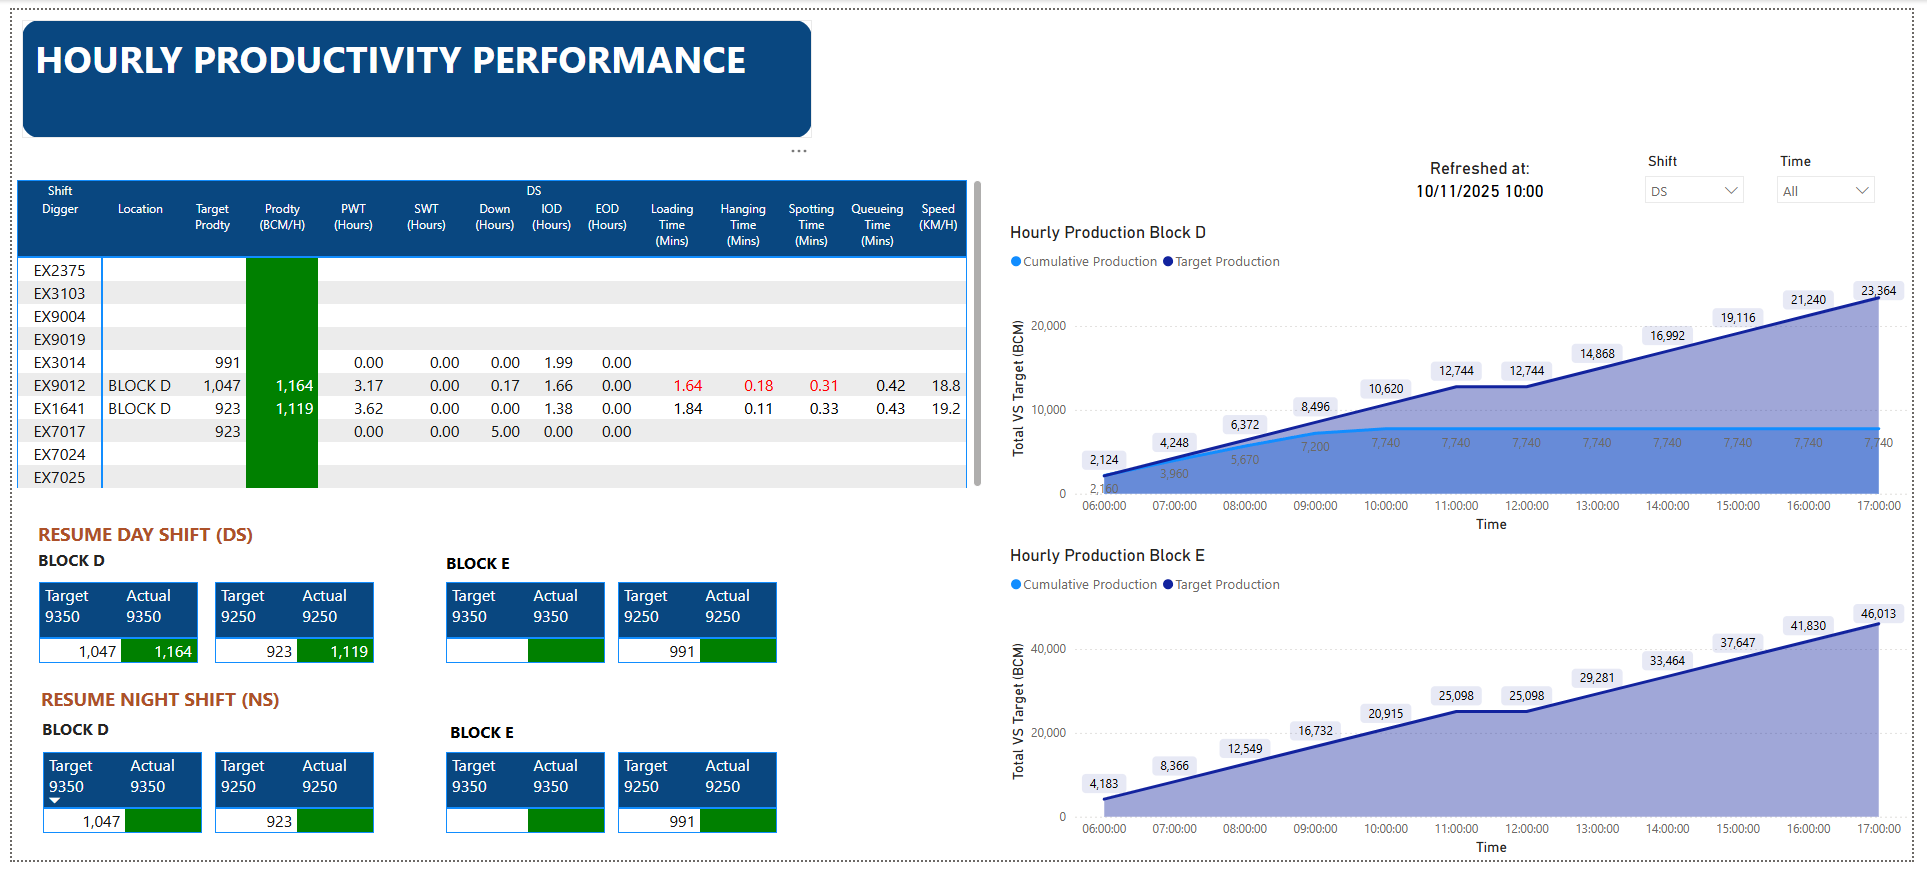

This screenshot's page, from the dashboard's own definition file:
{"tool":"powerbi","page":{"name":"1.1. SUMMARY PRODUCTIVITY DIGGER PERFORMANCE","canvas":[1900,850],"ordinal":0},"visuals":[{"type":"pivotTable","fields":{"Values":["Max(Thiess_Hourly_Performance.Location)","Sum(Taret_Site_Commercial.Target_Site)","Thiess_Hourly_Performance.PRODTY (BCM/H)","Sum(Thiess_Hourly_Performance.WT)","Sum(Thiess_Hourly_Performance.SWT)","Sum(Thiess_Hourly_Performance.DOWN)","Sum(Thiess_Hourly_Performance.IOD)","Sum(Thiess_Hourly_Performance.EOD)","Thiess_Hourly_Performance.LOADING_TIME (MINS)","Thiess_Hourly_Performance.HANGING_TIME (MINS)","Thiess_Hourly_Performance.SPOTTING_TIME (MINS)","Thiess_Hourly_Performance.QUEUEING_TIME (MINS)"],"Rows":["Bridge_Digger.Digger"],"Columns":["Bridge_Shift.ShiftIdent"]},"box":[0,165,975,318.3],"z":1000},{"type":"textbox","box":[10,10,790,118],"z":2000},{"type":"slicer","fields":{"Values":["Bridge_Shift.ShiftIdent"]},"box":[1623.3,138.3,118.3,70],"z":3000},{"type":"slicer","fields":{"Values":["Bridge_Time.Time"]},"box":[1755,138.3,118.3,70],"z":4000},{"type":"card","title":"Refreshed at:","fields":{"Values":["Max(Thiess_Hourly_Performance.Datetime)"]},"box":[1311.7,148.3,311.7,48.3],"z":5000},{"type":"areaChart","title":"Hourly Production Block D","fields":{"Category":["Bridge_Time.TimeF"],"Y":["Thiess_Hourly_Performance.Cumulative Production","Target_Production.TARGET PROD HOURLY"]},"box":[993.3,211.7,906.7,315],"z":6000},{"type":"areaChart","title":"Hourly Production Block E","fields":{"Category":["Bridge_Time.TimeF"],"Y":["Thiess_Hourly_Performance.Cumulative Production","Target_Production.TARGET PROD HOURLY"]},"box":[993.3,535,906.7,315],"z":7000},{"type":"textbox","box":[20.9,505.9,257.1,37.1],"z":8000},{"type":"tableEx","fields":{"Values":["Avg(Taret_Site_Commercial.Target_Site)","Thiess_Hourly_Performance.PRODTY (BCM/H)"]},"box":[20.9,567.3,172.9,105.7],"z":9000},{"type":"textbox","box":[24.3,670.9,311.7,38.3],"z":10000},{"type":"textbox","box":[20.9,533.8,101.2,33.8],"z":11000},{"type":"textbox","box":[428.8,536.8,242.9,35.7],"z":12000},{"type":"textbox","box":[24.8,702.8,101.2,33.8],"z":13000},{"type":"textbox","box":[432.6,705.8,242.9,35.7],"z":14000},{"type":"tableEx","fields":{"Values":["Avg(Taret_Site_Commercial.Target_Site)","Thiess_Hourly_Performance.PRODTY (BCM/H)"]},"box":[196.7,566.7,171.7,106.7],"z":15000},{"type":"tableEx","fields":{"Values":["Avg(Taret_Site_Commercial.Target_Site)","Thiess_Hourly_Performance.PRODTY (BCM/H)"]},"box":[25,736.7,171.7,106.7],"z":16000},{"type":"tableEx","fields":{"Values":["Avg(Taret_Site_Commercial.Target_Site)","Thiess_Hourly_Performance.PRODTY (BCM/H)"]},"box":[196.7,736.7,171.7,106.7],"z":17000},{"type":"tableEx","fields":{"Values":["Avg(Taret_Site_Commercial.Target_Site)","Thiess_Hourly_Performance.PRODTY (BCM/H)"]},"box":[428.3,566.7,171.7,106.7],"z":18000},{"type":"tableEx","fields":{"Values":["Avg(Taret_Site_Commercial.Target_Site)","Thiess_Hourly_Performance.PRODTY (BCM/H)"]},"box":[600,566.7,171.7,106.7],"z":19000},{"type":"tableEx","fields":{"Values":["Avg(Taret_Site_Commercial.Target_Site)","Thiess_Hourly_Performance.PRODTY (BCM/H)"]},"box":[428.3,736.7,171.7,106.7],"z":20000},{"type":"tableEx","fields":{"Values":["Avg(Taret_Site_Commercial.Target_Site)","Thiess_Hourly_Performance.PRODTY (BCM/H)"]},"box":[600,736.7,171.7,106.7],"z":21000}]}

Visuals, with their boxes in screenshot pixels (x1, y1, x2, y2), scaled from the page's 1900x850 canvas onto the 1927x874 screenshot:
pivotTable - Max(Thiess_Hourly_Performance.Location) x Sum(Taret_Site_Commercial.Target_Site): bbox=(0, 170, 989, 497)
textbox: bbox=(10, 10, 811, 132)
slicer - Bridge_Shift.ShiftIdent: bbox=(1646, 142, 1766, 214)
slicer - Bridge_Time.Time: bbox=(1780, 142, 1900, 214)
"Refreshed at:" card: bbox=(1330, 152, 1646, 202)
"Hourly Production Block D" areaChart: bbox=(1007, 218, 1926, 542)
"Hourly Production Block E" areaChart: bbox=(1007, 550, 1926, 873)
textbox: bbox=(21, 520, 282, 558)
tableEx - Avg(Taret_Site_Commercial.Target_Site) x Thiess_Hourly_Performance.PRODTY (BCM/H): bbox=(21, 583, 197, 692)
textbox: bbox=(25, 690, 341, 729)
textbox: bbox=(21, 549, 124, 584)
textbox: bbox=(435, 552, 681, 589)
textbox: bbox=(25, 723, 128, 757)
textbox: bbox=(439, 726, 685, 762)
tableEx - Avg(Taret_Site_Commercial.Target_Site) x Thiess_Hourly_Performance.PRODTY (BCM/H): bbox=(199, 583, 374, 692)
tableEx - Avg(Taret_Site_Commercial.Target_Site) x Thiess_Hourly_Performance.PRODTY (BCM/H): bbox=(25, 758, 199, 867)
tableEx - Avg(Taret_Site_Commercial.Target_Site) x Thiess_Hourly_Performance.PRODTY (BCM/H): bbox=(199, 758, 374, 867)
tableEx - Avg(Taret_Site_Commercial.Target_Site) x Thiess_Hourly_Performance.PRODTY (BCM/H): bbox=(434, 583, 609, 692)
tableEx - Avg(Taret_Site_Commercial.Target_Site) x Thiess_Hourly_Performance.PRODTY (BCM/H): bbox=(609, 583, 783, 692)
tableEx - Avg(Taret_Site_Commercial.Target_Site) x Thiess_Hourly_Performance.PRODTY (BCM/H): bbox=(434, 758, 609, 867)
tableEx - Avg(Taret_Site_Commercial.Target_Site) x Thiess_Hourly_Performance.PRODTY (BCM/H): bbox=(609, 758, 783, 867)
